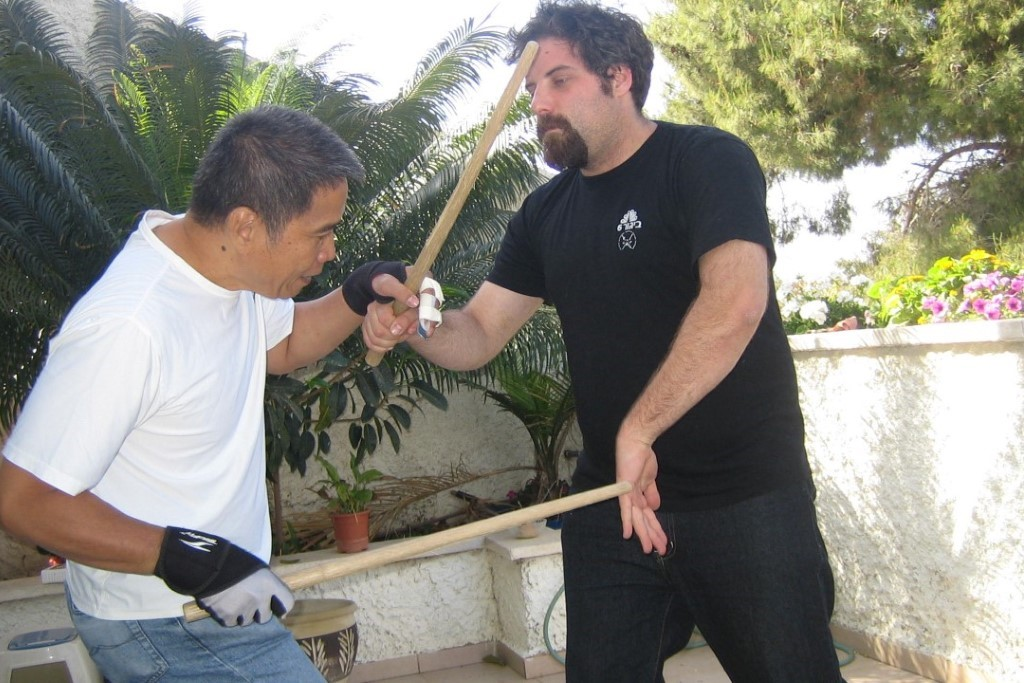baston_e: (194, 479, 624, 625), (381, 46, 525, 359)
baston_v: (359, 337, 390, 375), (169, 594, 199, 629), (608, 471, 635, 504), (521, 30, 546, 62)
